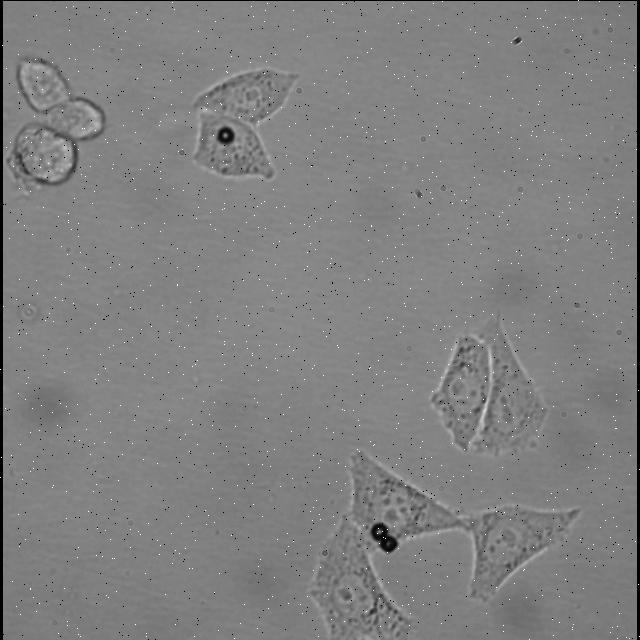microbeads: (215, 125, 237, 146), (380, 534, 398, 552), (368, 524, 388, 540)
